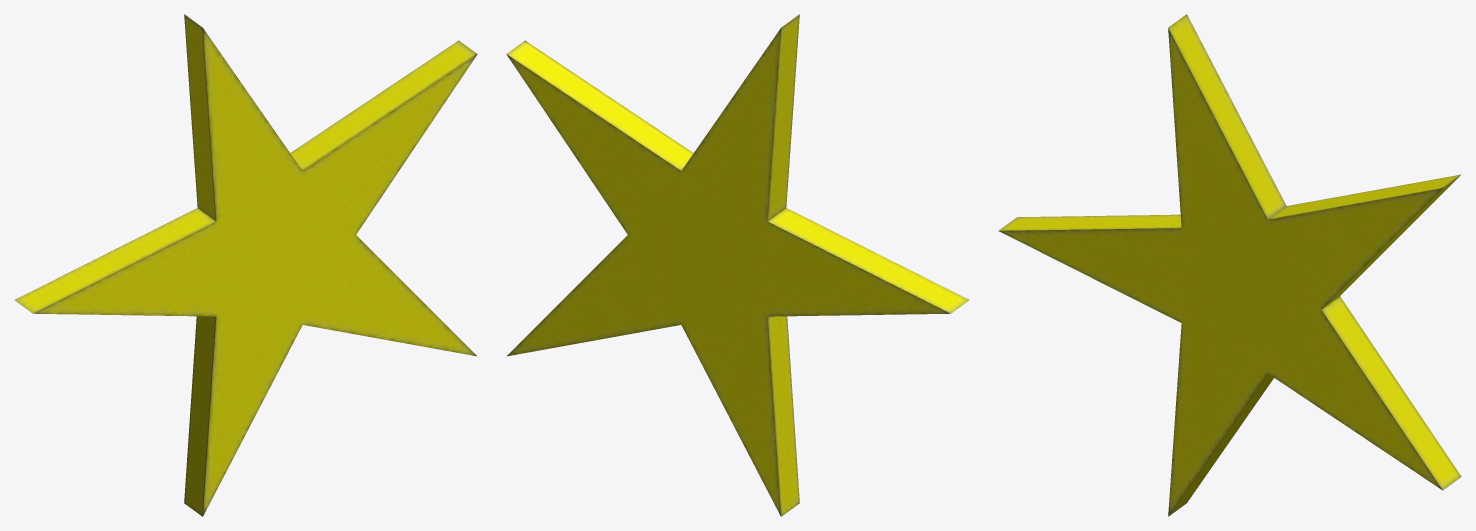
File: star.obj
3 views of the same model, side by side, from view 1: azimuth 30°, elevation 25°; view 2: azimuth 150°, elevation 25°; view 3: azimuth 330°, elevation 25° (orthographic).
Parts seen in each view (by area): view 1: Star001; view 2: Star001; view 3: Star001.
Boxes of the visible parts, x1,y1,x2,y2 form: Star001: (14, 14, 477, 516); Star001: (506, 14, 969, 516); Star001: (998, 14, 1461, 516).
Size of the model in its own units: 6.84 by 7.2 by 0.5.
Materials: 1 (1 with a texture image).
